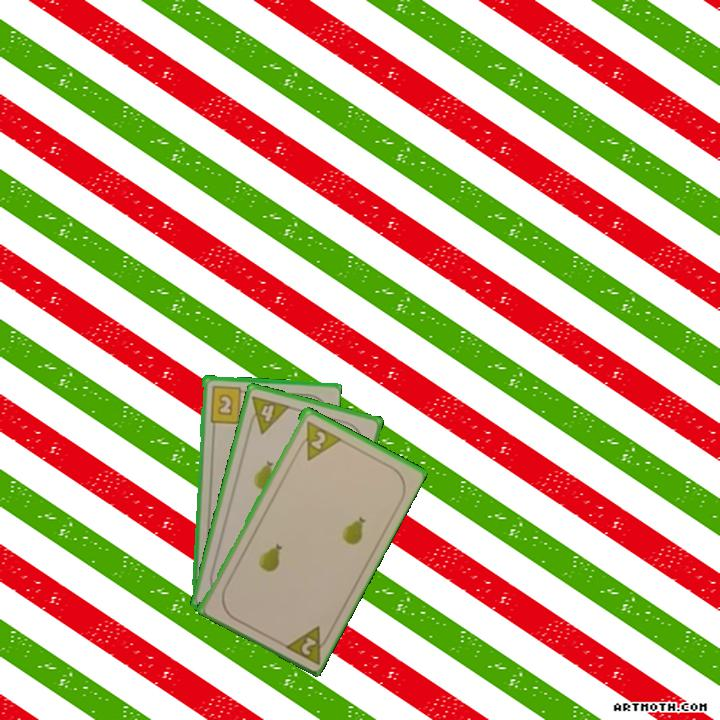2b: (206, 382, 250, 426)
2p: (279, 622, 334, 667), (307, 427, 329, 452)
4p: (244, 392, 293, 436)
